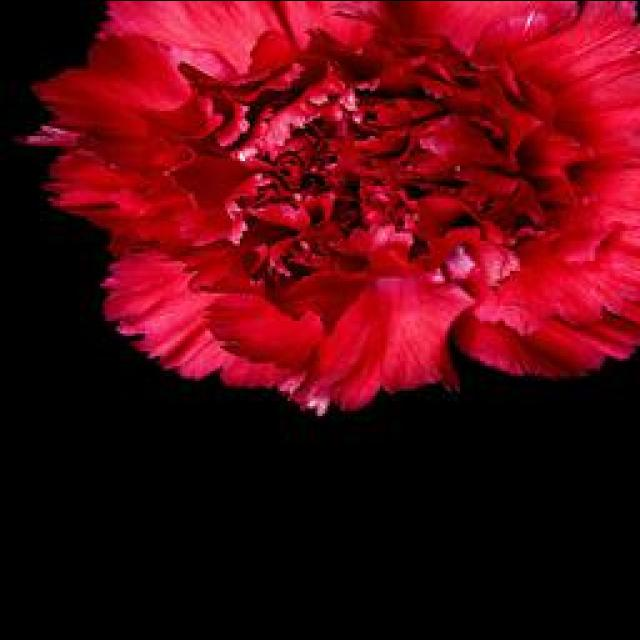carnation: (36, 0, 640, 409)
